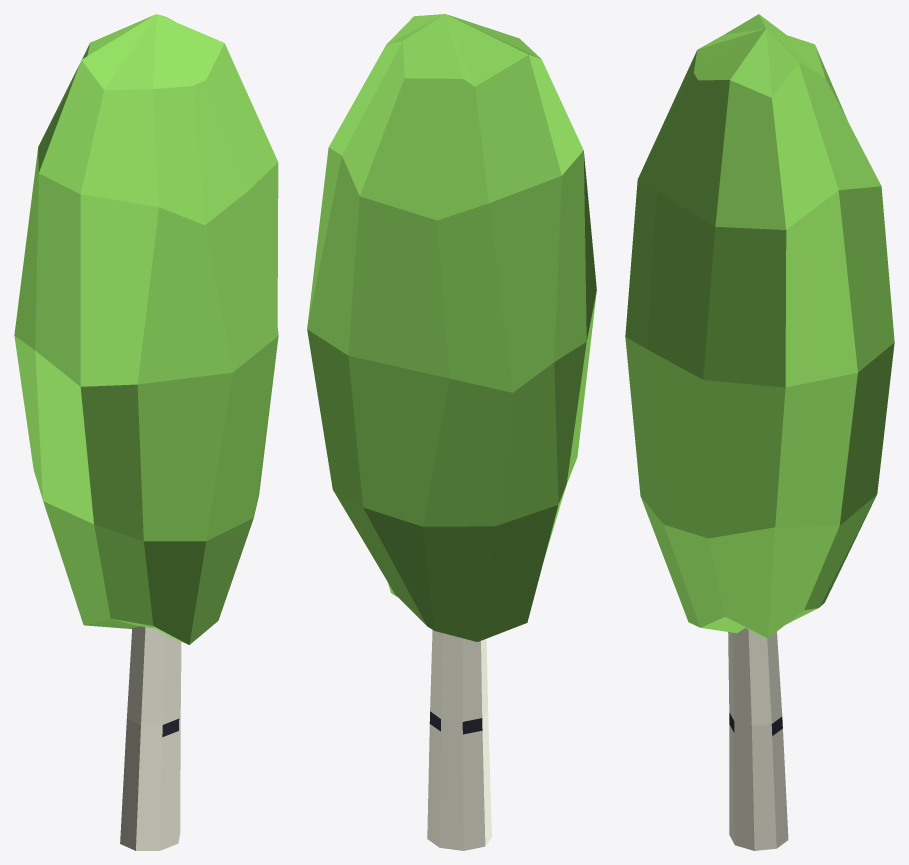
Rendered from Birch3_summer.FBX.
3 renders of one model, left to right at view 1: azimuth 30°, elevation 25°; view 2: azimuth 150°, elevation 25°; view 3: azimuth 270°, elevation 25°, orthographic.
Parts seen in each view (by area): view 1: Berezka2.001; view 2: Berezka2.001; view 3: Berezka2.001.
Boxes of the visible parts, <box> form: Berezka2.001: <box>14,14,278,850</box>; Berezka2.001: <box>307,14,596,850</box>; Berezka2.001: <box>625,14,894,850</box>.
Bounding box in the file's own units: 1.87 × 6.58 × 1.97.
